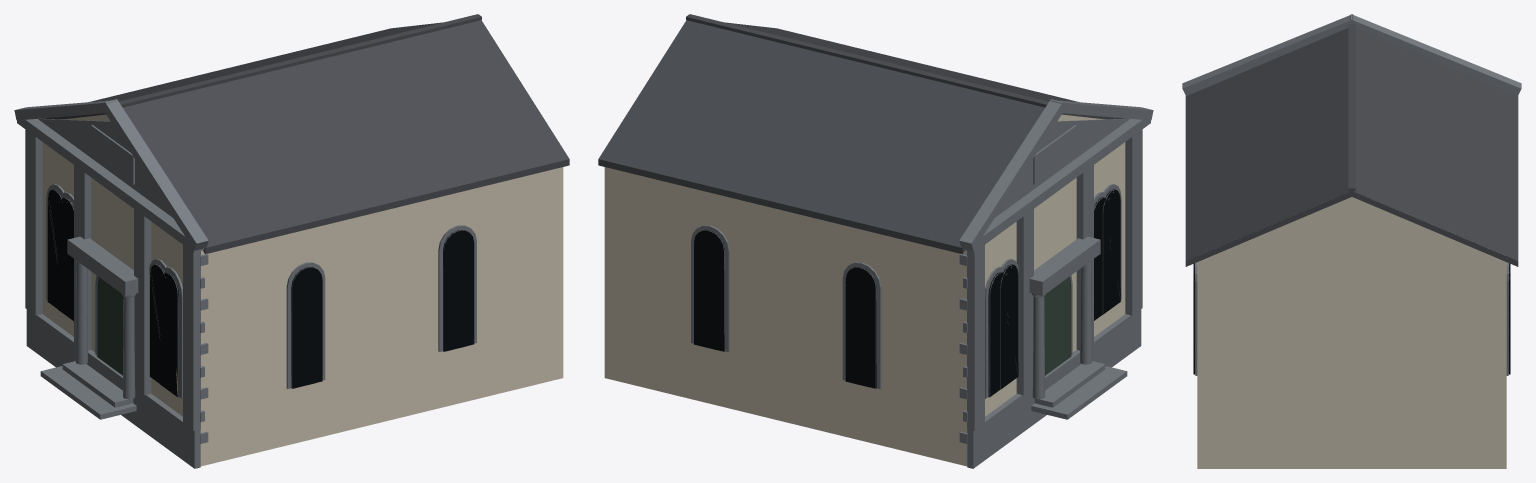
The model's file is context.church.wal_capel_render.glb.
The picture shows the model from 3 angles, left to right: view 1: azimuth 30°, elevation 25°; view 2: azimuth 150°, elevation 25°; view 3: azimuth 270°, elevation 25°; orthographic projection. The views are drawn at different scales.
Visible parts, largest first — view 1: main__render_ccb, main__clad_455, main__stone_778, main__glass_dark, main__timber_344, main__stone_556; view 2: main__render_ccb, main__clad_455, main__stone_778, main__glass_dark, main__timber_344, main__stone_556; view 3: main__render_ccb, main__clad_455, main__stone_778, main__stone_556.
Boxes of the visible parts, bbox=[...] form: main__render_ccb: bbox=[42, 114, 563, 466]; main__clad_455: bbox=[41, 14, 569, 254]; main__stone_778: bbox=[14, 99, 476, 468]; main__glass_dark: bbox=[47, 189, 474, 396]; main__timber_344: bbox=[97, 277, 123, 375]; main__stone_556: bbox=[47, 189, 474, 397]; main__render_ccb: bbox=[604, 114, 1125, 466]; main__clad_455: bbox=[598, 14, 1126, 254]; main__stone_778: bbox=[691, 99, 1153, 468]; main__glass_dark: bbox=[694, 189, 1120, 397]; main__timber_344: bbox=[1044, 277, 1070, 375]; main__stone_556: bbox=[693, 189, 1120, 397]; main__render_ccb: bbox=[1197, 197, 1506, 468]; main__clad_455: bbox=[1185, 23, 1518, 266]; main__stone_778: bbox=[1182, 14, 1521, 375]; main__stone_556: bbox=[1193, 263, 1510, 374].
Bounding box in the file's own units: 13.5 × 9.65 × 10.41.
